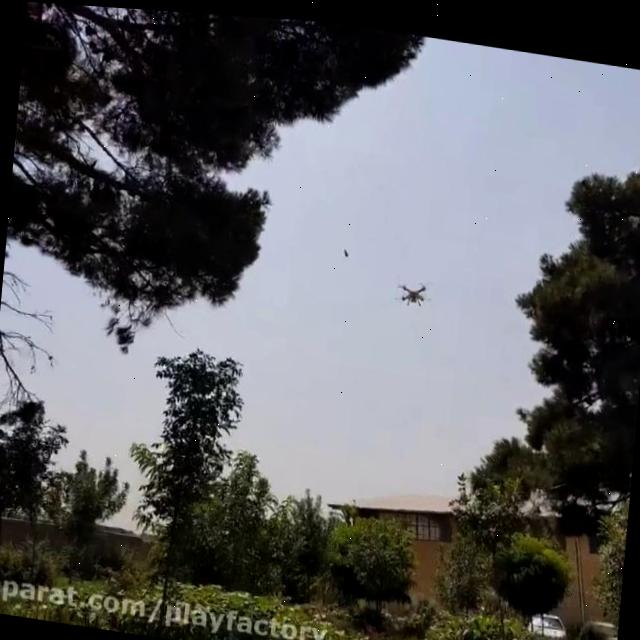drone: (389, 263, 438, 306)
